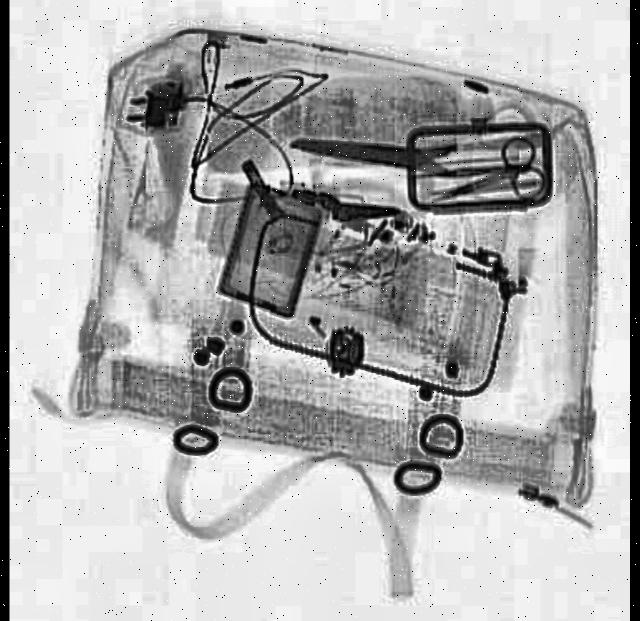Scissors: (423, 131, 548, 230)
